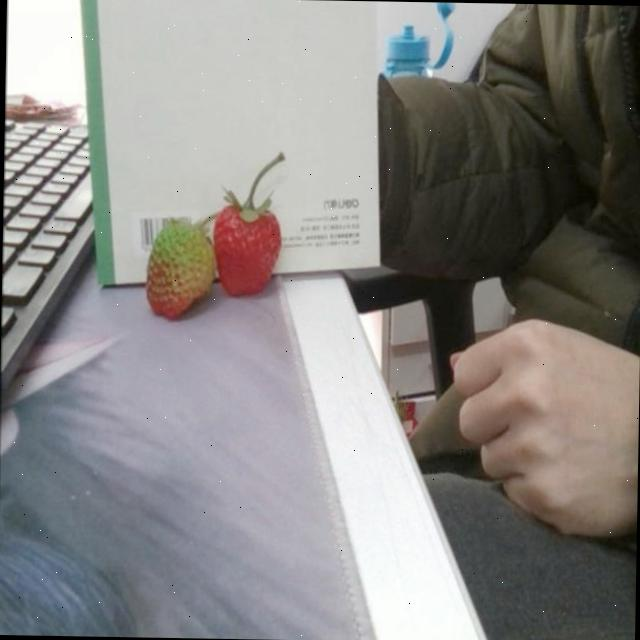strawberry: (144, 212, 210, 316), (209, 202, 282, 296)
